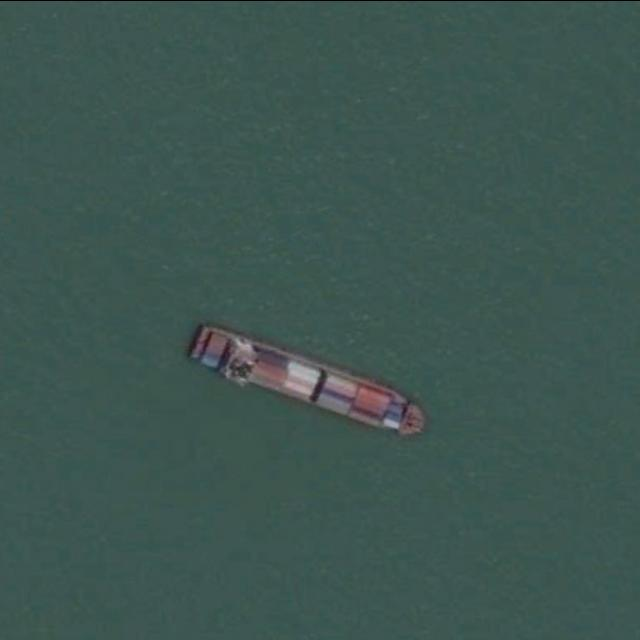ship: (182, 322, 428, 438)
